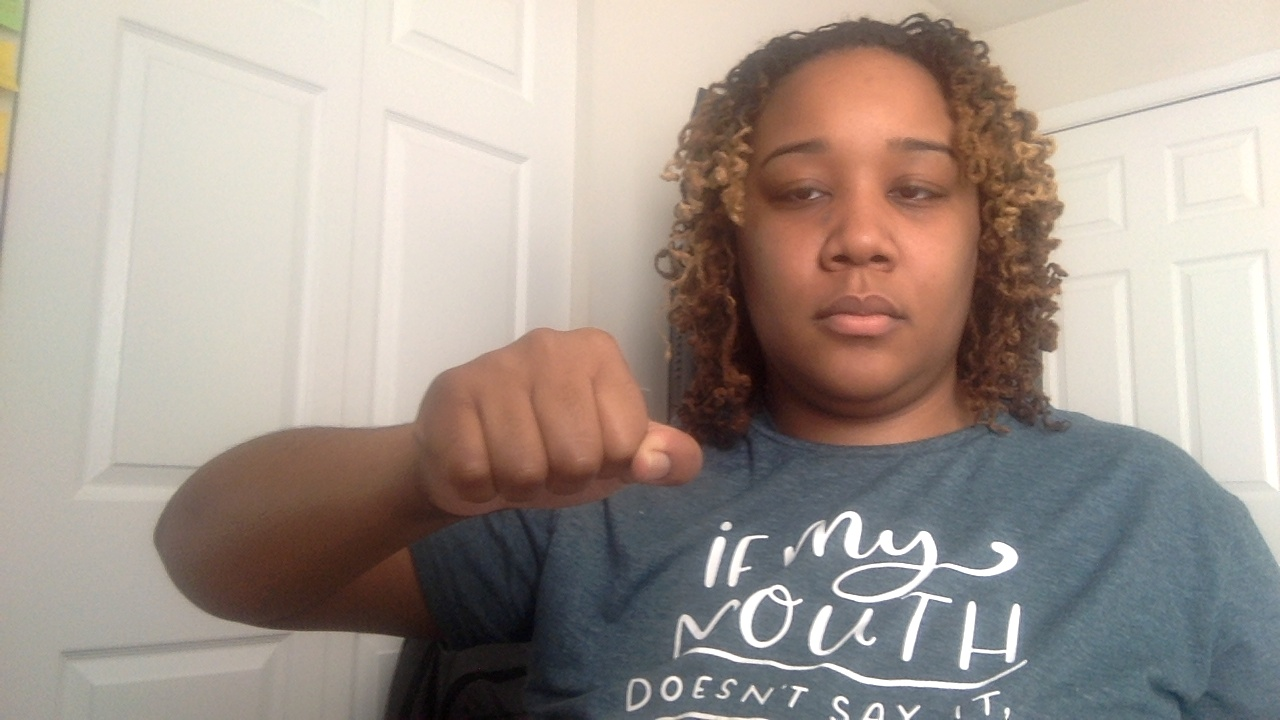yes: (359, 297, 736, 576)
